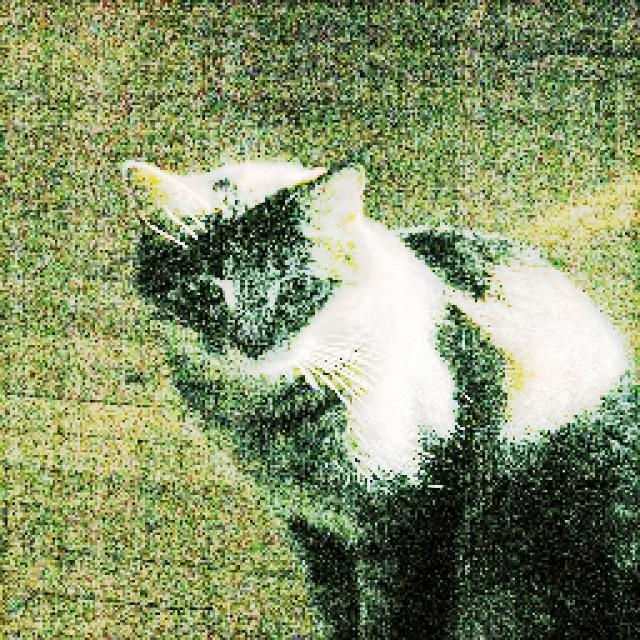cat: (120, 150, 640, 640)
